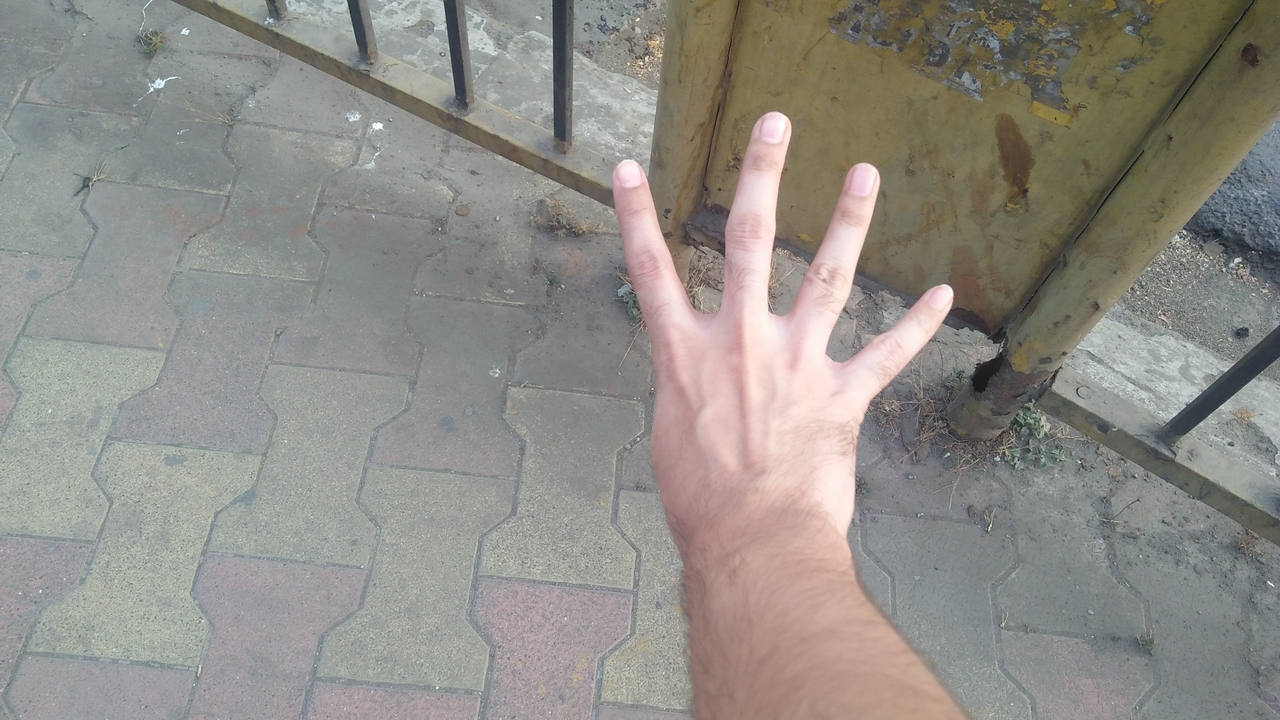fingertip: (904, 272, 966, 324), (832, 152, 890, 206), (742, 106, 802, 156), (602, 146, 652, 202)
